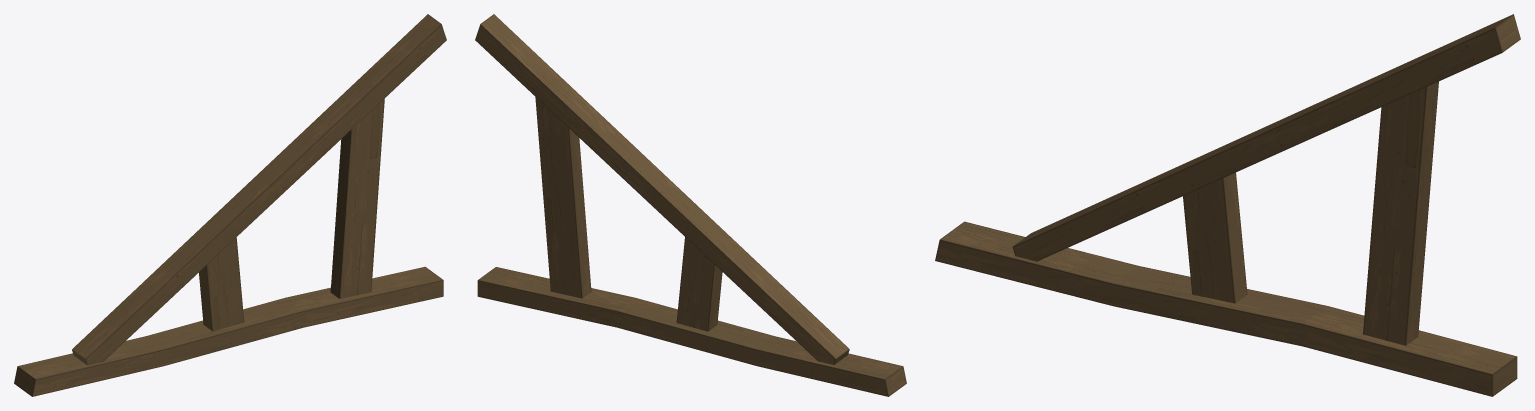
The model's file is SM_building_part_06.glb.
3 renders of one model, left to right at view 1: azimuth 30°, elevation 25°; view 2: azimuth 150°, elevation 25°; view 3: azimuth 330°, elevation 25°, orthographic. The views are drawn at different scales.
Parts seen in each view (by area): view 1: SM_building_part_06; view 2: SM_building_part_06; view 3: SM_building_part_06.
Boxes of the visible parts, <box> form: SM_building_part_06: <box>14,14,446,396</box>; SM_building_part_06: <box>475,14,906,396</box>; SM_building_part_06: <box>935,14,1520,396</box>.
Size of the model in its own units: 5.27 by 3.29 by 0.4.
1 material, 1 textured.
